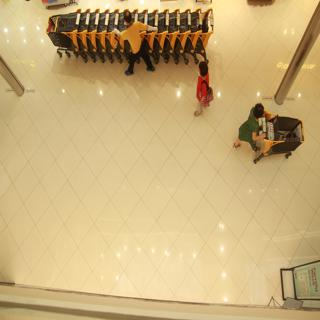person: (115, 10, 157, 76), (190, 50, 219, 130), (231, 99, 261, 163)
